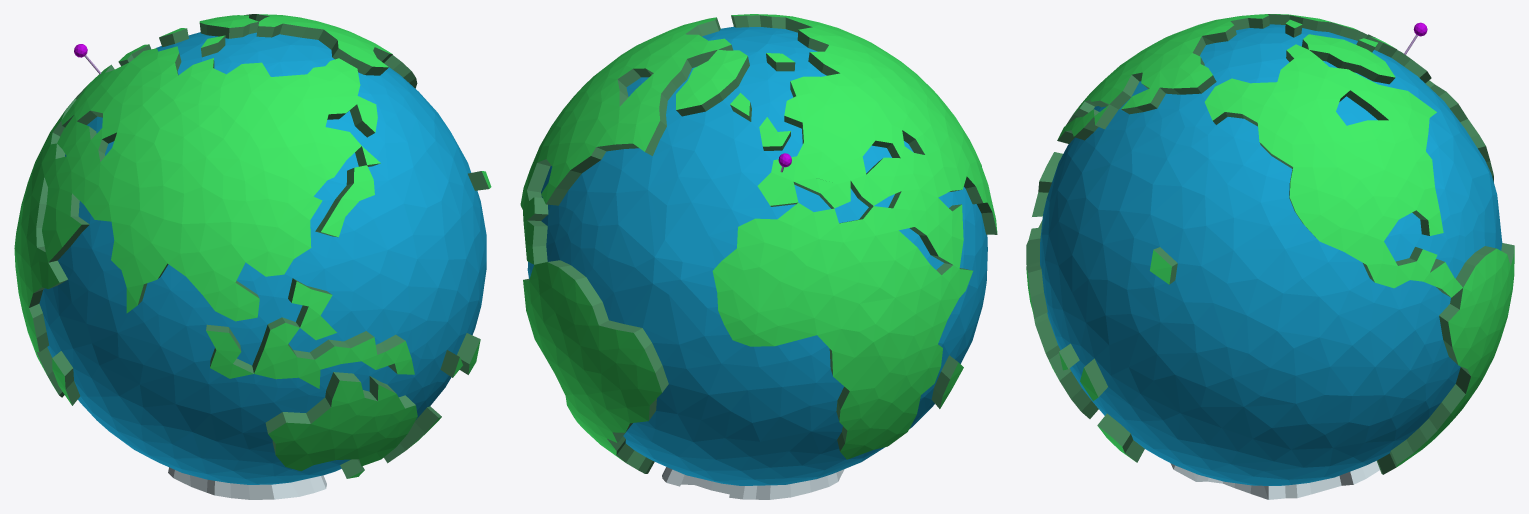
Rendered from low_poly_earth.gltf.
The picture shows the model from 3 angles, left to right: view 1: azimuth 30°, elevation 25°; view 2: azimuth 150°, elevation 25°; view 3: azimuth 270°, elevation 25°; orthographic projection.
Parts seen in each view (by area): view 1: Sphere; view 2: Sphere; view 3: Sphere.
Boxes of the visible parts, <box> form: Sphere: <box>14,14,491,499</box>; Sphere: <box>520,14,997,499</box>; Sphere: <box>1026,14,1514,499</box>.
Bounding box in the file's own units: 2.04 × 2.11 × 2.11.
